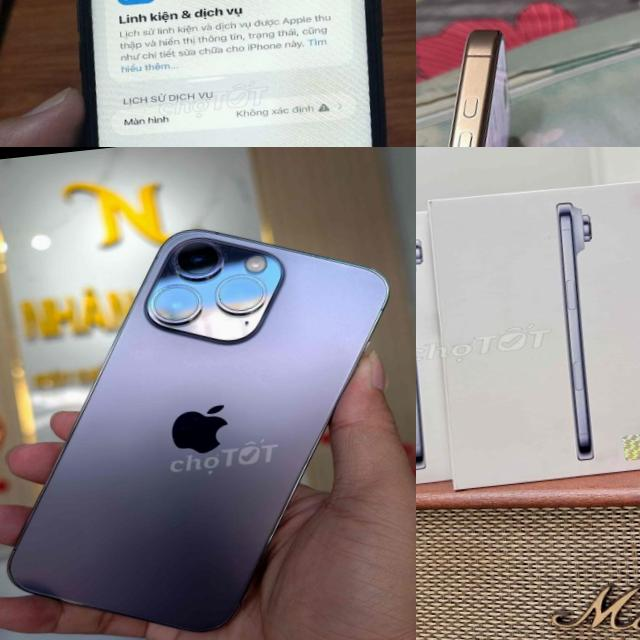gen_11: (78, 0, 385, 147)
gen_14: (0, 201, 416, 640)
gen_16: (416, 17, 569, 147)
gen_17: (520, 188, 628, 468)
